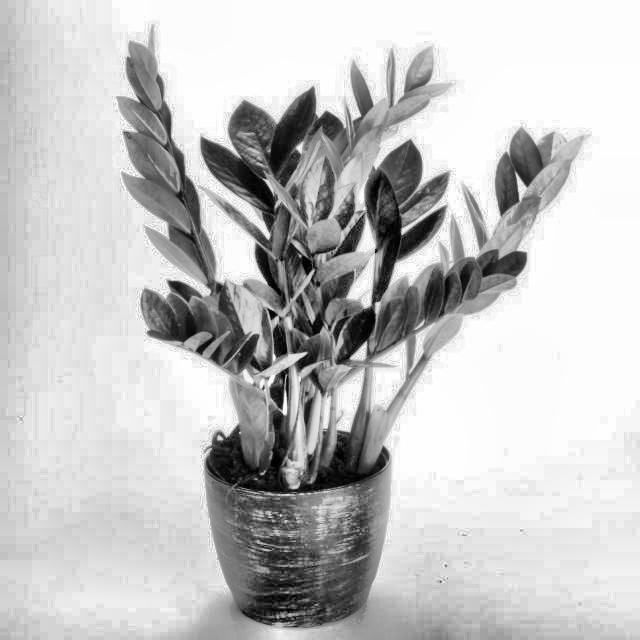plants: (111, 19, 592, 631)
